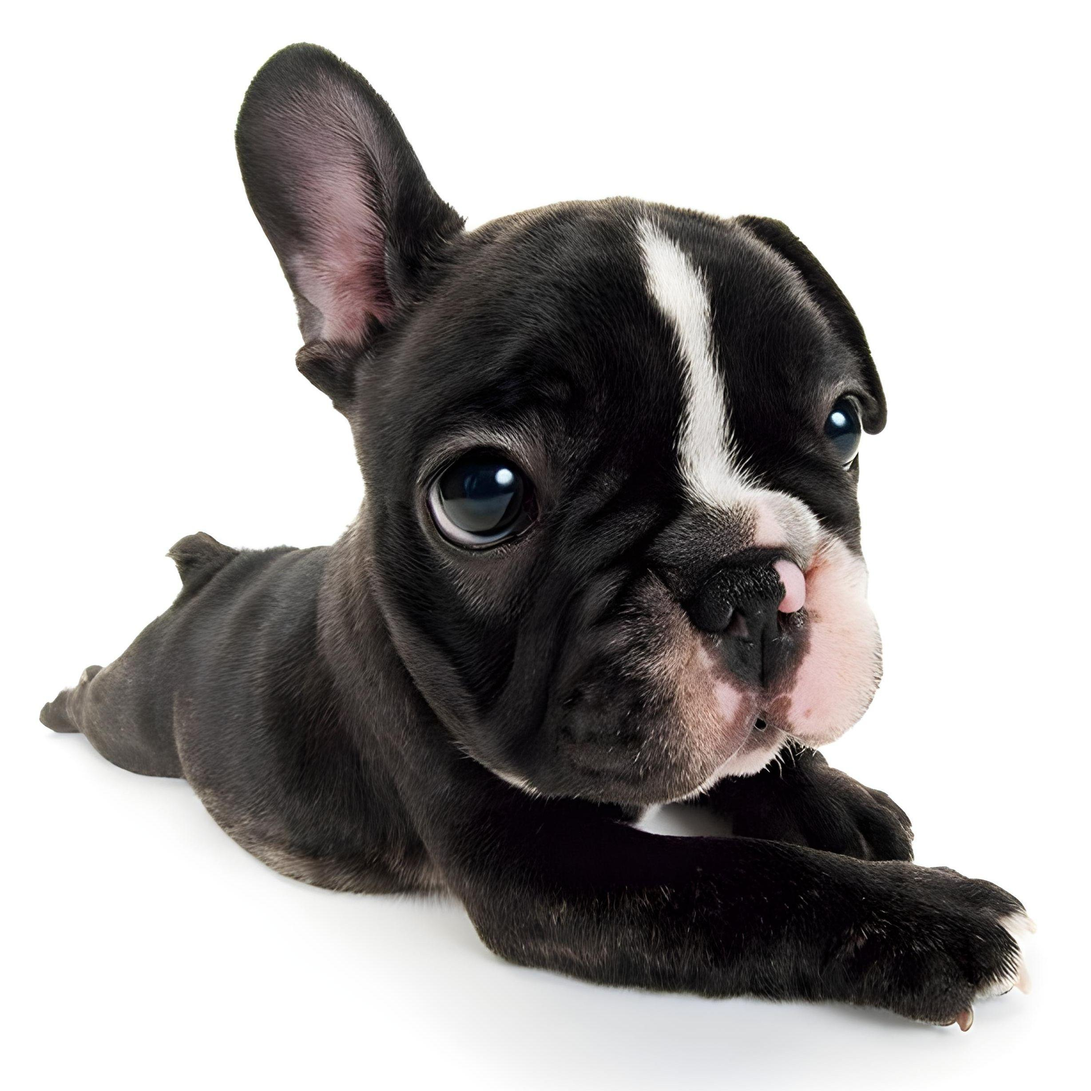puppy-dog: (36, 41, 1034, 1034)
